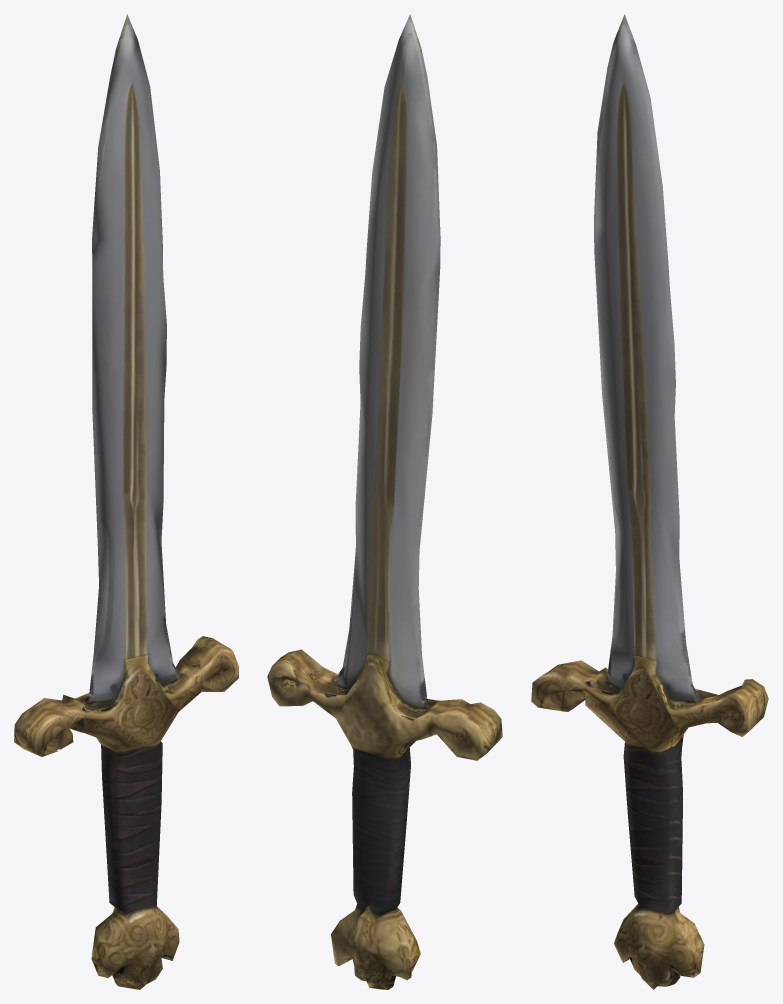
The model's file is sword-iron.glb.
The picture shows the model from 3 angles, left to right: view 1: azimuth 30°, elevation 25°; view 2: azimuth 150°, elevation 25°; view 3: azimuth 330°, elevation 25°; orthographic projection.
Visible parts, largest first — view 1: Mesh1.0; view 2: Mesh1.0; view 3: Mesh1.0.
Part boxes in pixels (x1=…): Mesh1.0: x1=14, y1=14, x2=238, y2=989; Mesh1.0: x1=267, y1=14, x2=502, y2=989; Mesh1.0: x1=531, y1=14, x2=768, y2=989.
Bounding box in the file's own units: 0.4546 × 1.99 × 0.141.
Materials: 1 (1 with a texture image).
